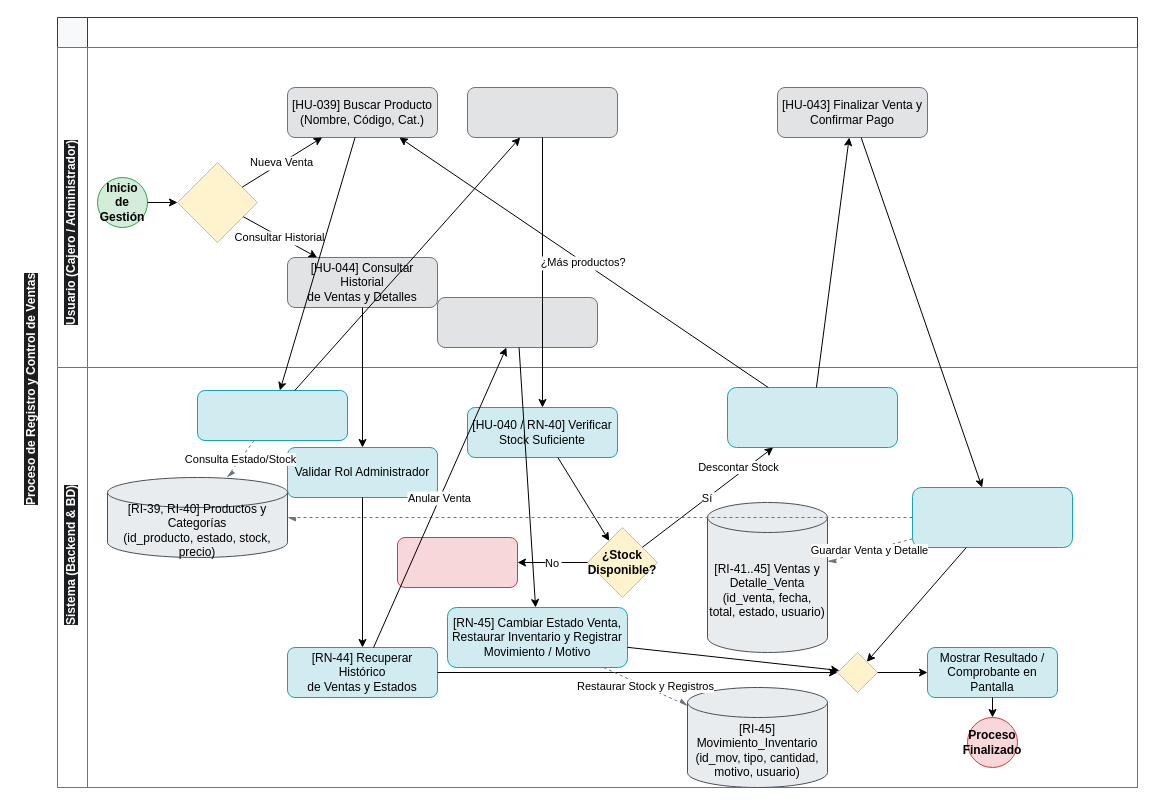
Some shapes in this 1155 by 805 pixel diagram are drawn without their labels. Here are the shapes that lost their labels. From the top down, the centre of each, then its label:
At point (542, 112): "[HU-041] Indicar Cantidad y Agregar a la Venta".
At point (217, 202): "¿Tipo de Operación?".
At point (517, 322): "[HU-045] Seleccionar Venta e Ingresar Motivo Anulación".
At point (272, 415): "[RN-39] Validar Estado Activo del Producto".
At point (812, 417): "[HU-042 / RN-42] Registrar Línea y Recalcular Subtotales y Total".
At point (992, 517): "[HU-043 / RN-43] Registrar Venta, Descontar Stock y Emitir Comprobante".
At point (457, 562): "Notificar Error: Stock Insuficiente".
